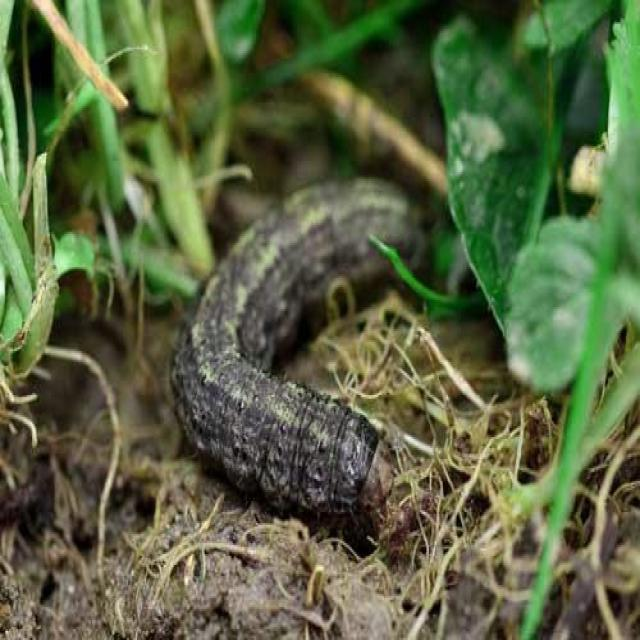black cutworm: (173, 162, 439, 520)
